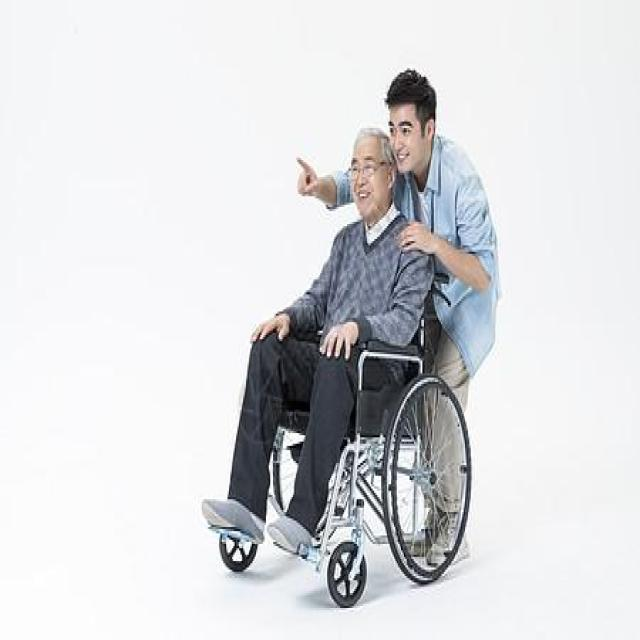wheelchairs: (202, 255, 474, 617)
